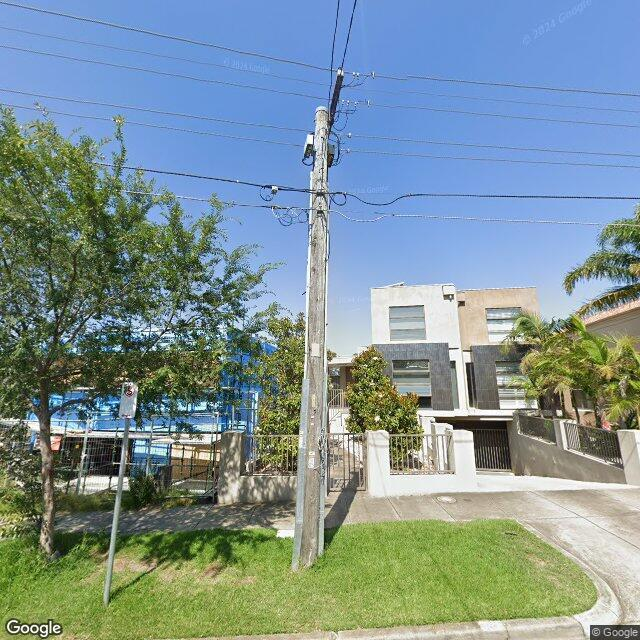crossarm: (326, 68, 378, 167)
timber-pole: (291, 106, 330, 572)
